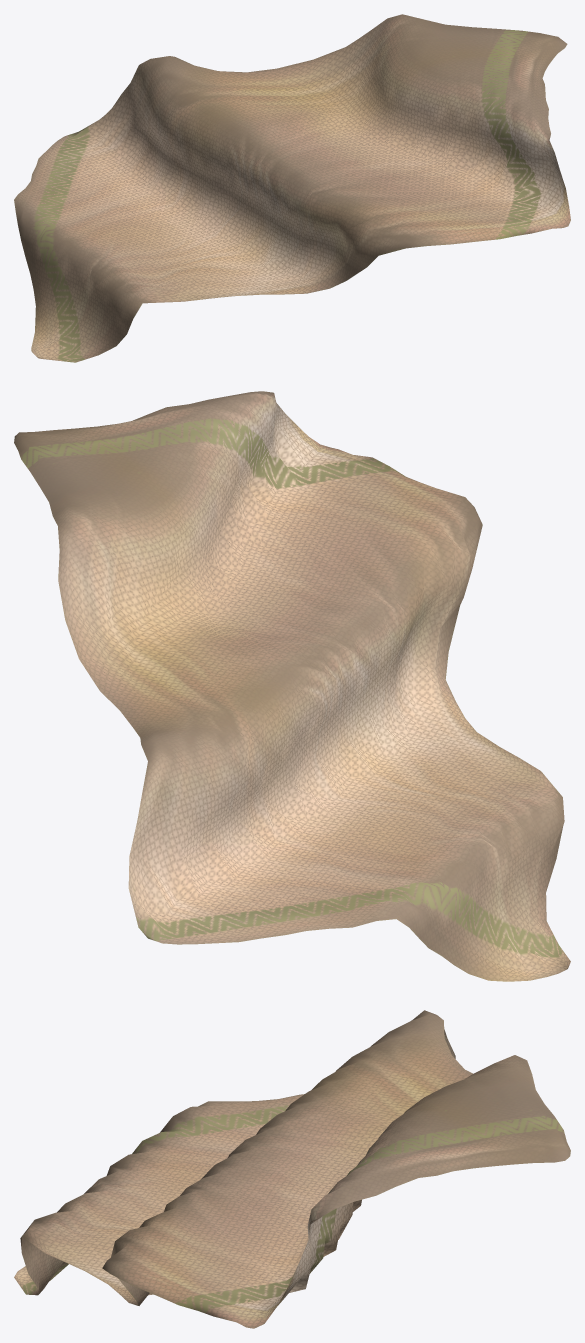
The model's file is SM_Cloth_02.fbx.
3 views of the same model, one above another, from view 1: azimuth 30°, elevation 25°; view 2: azimuth 150°, elevation 25°; view 3: azimuth 330°, elevation 25° (orthographic). The views are drawn at different scales.
Parts seen in each view (by area): view 1: SM_Cloth_02_LOD0; view 2: SM_Cloth_02_LOD0; view 3: SM_Cloth_02_LOD0.
Part boxes in pixels (bbox=[...]): SM_Cloth_02_LOD0: bbox=[14, 14, 570, 362]; SM_Cloth_02_LOD0: bbox=[14, 391, 570, 981]; SM_Cloth_02_LOD0: bbox=[14, 1010, 570, 1328].
Bounding box in the file's own units: 158 × 183 × 80.57.
Materials: 1 (1 with a texture image).
